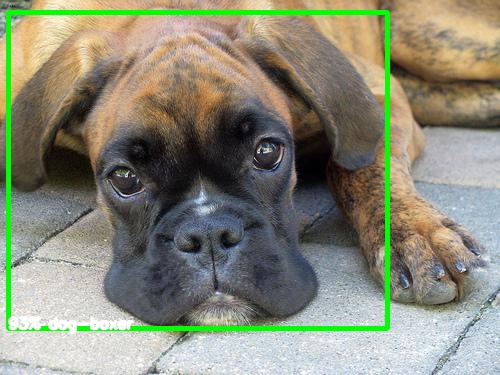dog-boxer: (1, 9, 389, 327)
